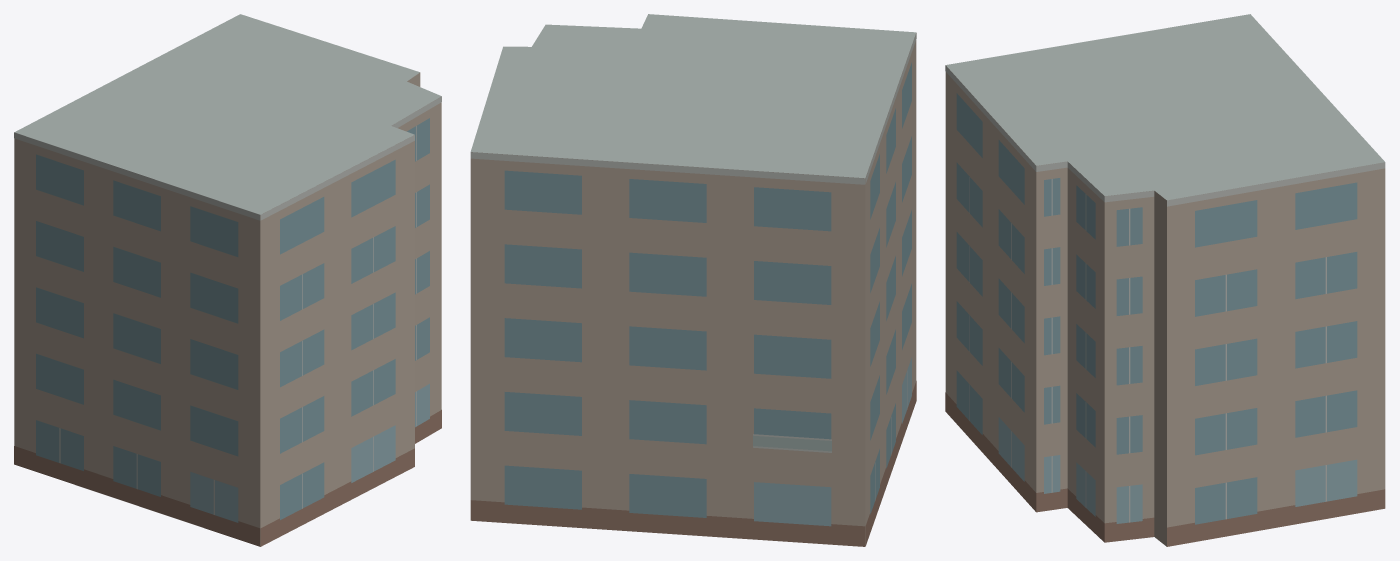
Rendered from survey-upis-32947819.glb.
3 renders of one model, left to right at view 1: azimuth 30°, elevation 25°; view 2: azimuth 150°, elevation 25°; view 3: azimuth 270°, elevation 25°, orthographic. The views are drawn at different scales.
Parts seen in each view (by area): view 1: survey-upis-32947819.tmp; view 2: survey-upis-32947819.tmp; view 3: survey-upis-32947819.tmp.
Boxes of the visible parts, x1,y1,x2,y2 form: survey-upis-32947819.tmp: [14, 14, 441, 546]; survey-upis-32947819.tmp: [470, 14, 916, 546]; survey-upis-32947819.tmp: [945, 14, 1385, 546].
Size of the model in its own units: 15.73 by 13.62 by 15.68.
